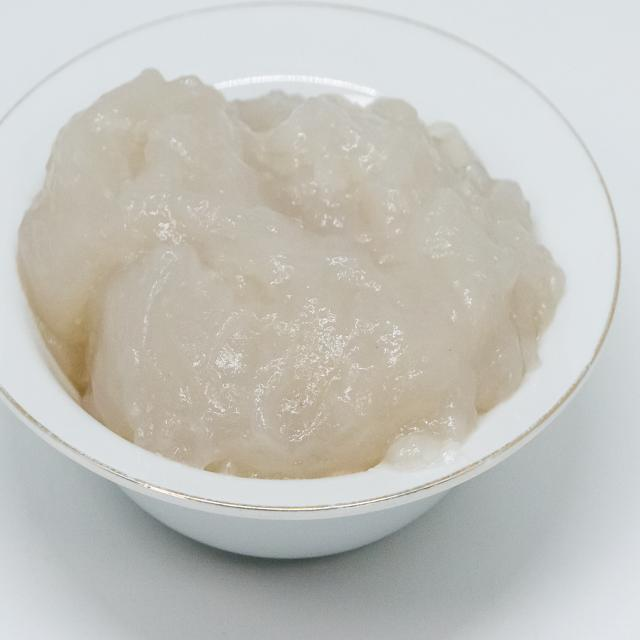Papeda: (8, 39, 573, 510)
